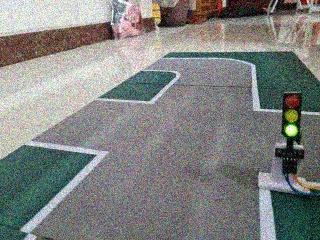green: (276, 87, 307, 155)
